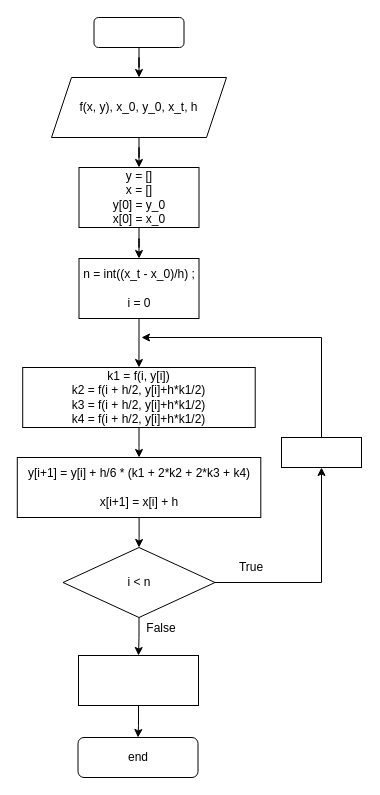
This 380x795 diagram has some shape labels left out. The shapes that lost their labels are listed below. From the top down, each one's centre as x and y in pixels, then its label:
At (x=138, y=32): "Start".
At (x=321, y=452): "i += 1".
At (x=138, y=680): "return x, y".
